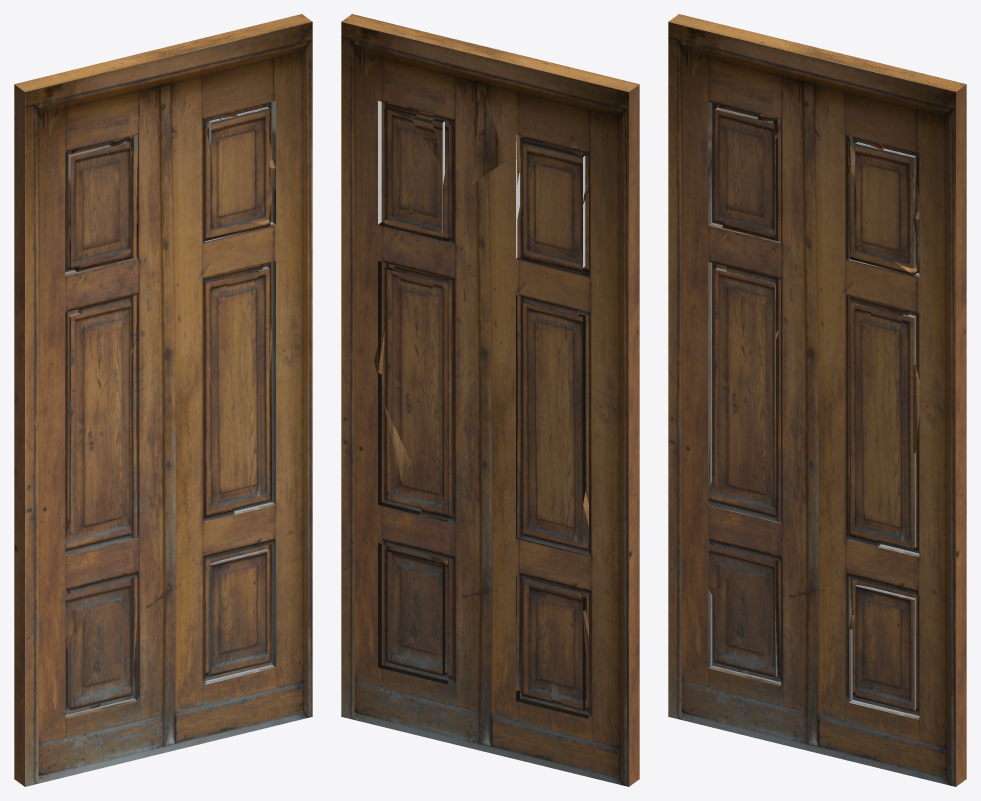
The model's file is front_door.fbx.
3 views of the same model, side by side, from view 1: azimuth 30°, elevation 25°; view 2: azimuth 150°, elevation 25°; view 3: azimuth 330°, elevation 25° (orthographic).
Parts seen in each view (by area): view 1: front_door_unbroken, door_piece_17, door_piece_20, door_piece_08, door_piece_07, door_piece_09, door_piece_21, door_piece_19; view 2: front_door_unbroken, front_door_unbroken001, door_piece_20, door_piece_24, door_piece_18, door_piece_16, door_piece_06, door_piece_04, door_piece_26, door_piece_11, door_piece_07; view 3: front_door_unbroken, front_door_unbroken001, door_piece_17, door_piece_20, door_piece_08, door_piece_07, door_piece_09, door_piece_21, door_piece_19.
Boxes of the visible parts, x1,y1,x2,y2 form: front_door_unbroken: (14,14,312,786); door_piece_17: (205,265,260,441); door_piece_20: (118,146,223,327); door_piece_08: (65,519,105,637); door_piece_07: (205,459,234,610); door_piece_09: (103,453,137,615); door_piece_21: (206,220,270,315); door_piece_19: (74,256,136,349); front_door_unbroken: (342,14,639,786); front_door_unbroken001: (341,14,628,786); door_piece_20: (383,193,448,368); door_piece_24: (443,117,519,195); door_piece_18: (517,232,561,396); door_piece_16: (443,365,522,515); door_piece_06: (517,515,588,651); door_piece_04: (448,516,525,688); door_piece_26: (384,109,441,166); door_piece_11: (384,316,411,480); door_piece_07: (419,492,448,564); front_door_unbroken: (668,14,965,786); front_door_unbroken001: (708,84,966,786); door_piece_17: (849,309,904,460); door_piece_20: (764,131,868,334); door_piece_08: (708,474,750,587); door_piece_07: (848,477,877,629); door_piece_09: (747,438,780,599); door_piece_21: (850,256,913,334); door_piece_19: (722,222,780,333).
Size of the model in its own units: 13.19 by 30.44 by 0.8636.
